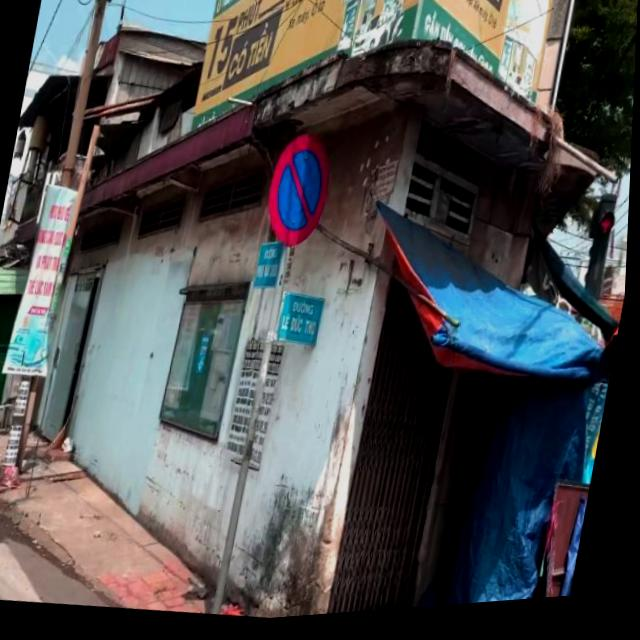Cam do xe: (263, 131, 343, 262)
